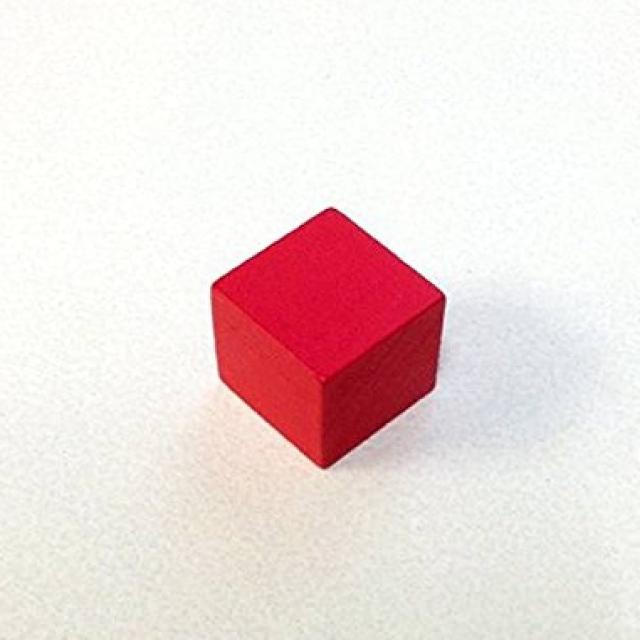red cube: (208, 202, 448, 472)
